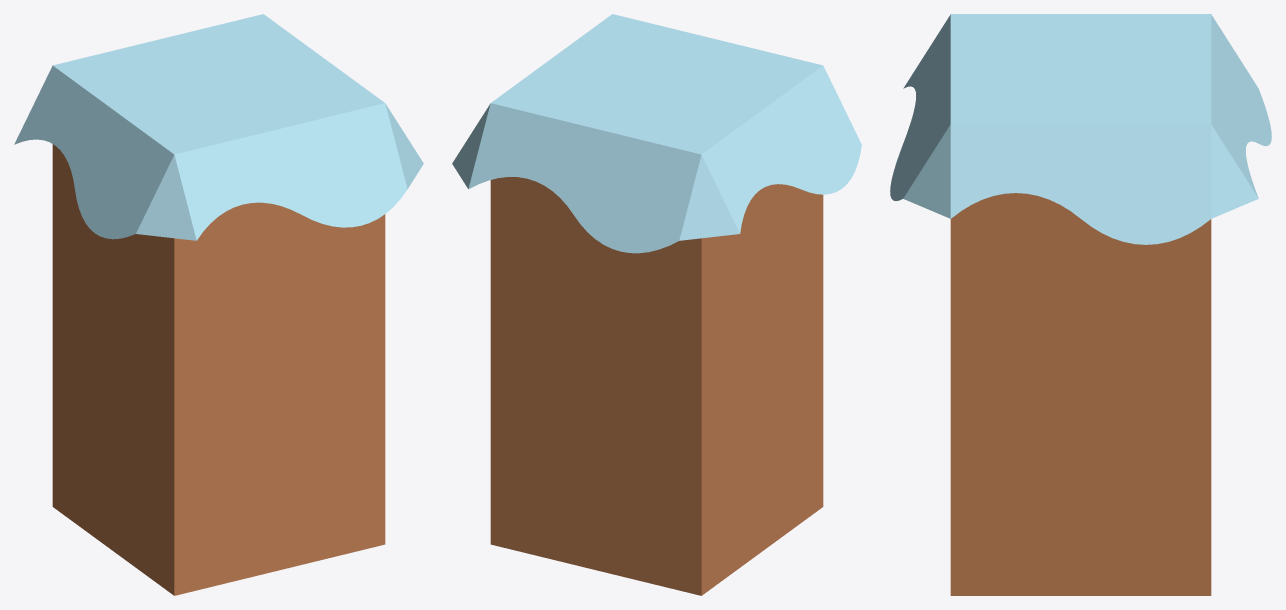
The model's file is blockSnowQuarter.obj.
The picture shows the model from 3 angles, left to right: view 1: azimuth 30°, elevation 25°; view 2: azimuth 150°, elevation 25°; view 3: azimuth 270°, elevation 25°; orthographic projection. The views are drawn at different scales.
Visible parts, largest first — view 1: blockSnowQuarter; view 2: blockSnowQuarter; view 3: blockSnowQuarter.
Boxes of the visible parts, x1,y1,x2,y2 form: blockSnowQuarter: (14, 14, 423, 595); blockSnowQuarter: (452, 14, 861, 595); blockSnowQuarter: (890, 14, 1271, 595).
Size of the model in its own units: 0.733 by 1 by 0.733.
